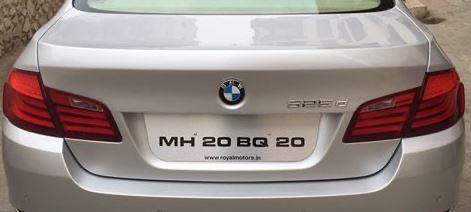MH20BQ20: (144, 113, 322, 162)
